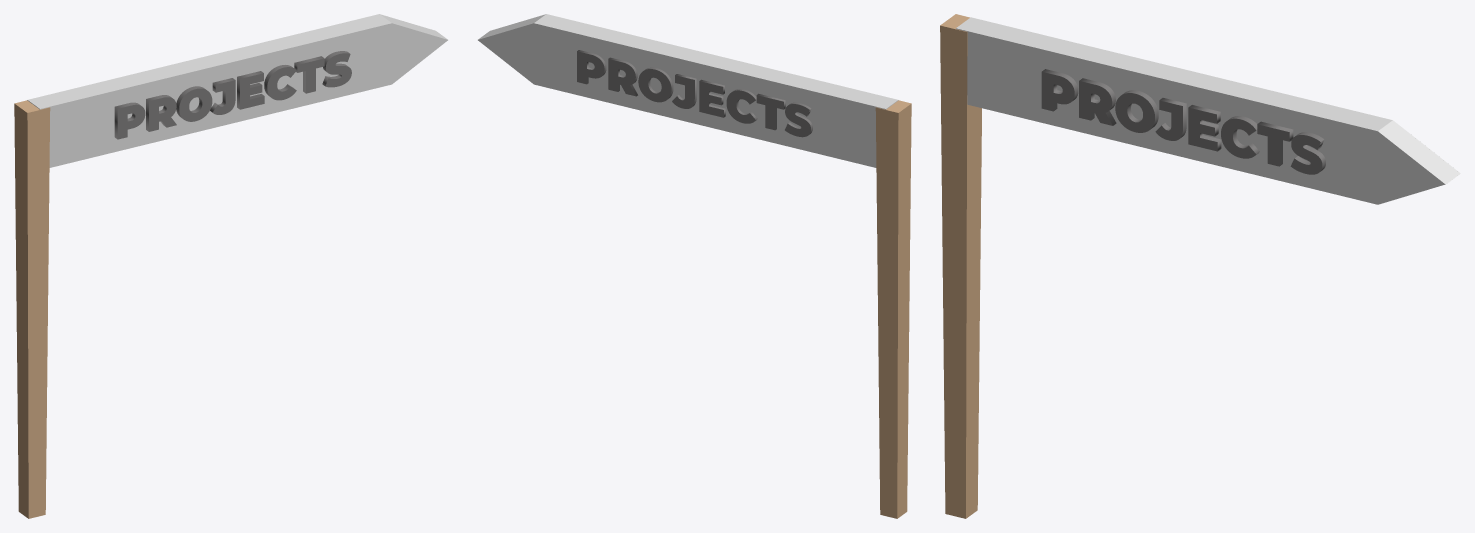
File: navigation_board_project.fbx
The picture shows the model from 3 angles, left to right: view 1: azimuth 30°, elevation 25°; view 2: azimuth 150°, elevation 25°; view 3: azimuth 330°, elevation 25°; orthographic projection. The views are drawn at different scales.
Parts seen in each view (by area): view 1: Cube.001, Cube, Text.002; view 2: Cube.001, Cube, Text.001; view 3: Cube.001, Cube, Text.002.
Part boxes in pixels (x1,y1,x2,y2): Cube.001: (27,14,447,167); Cube: (14,100,50,518); Text.002: (114,51,351,139); Cube.001: (478,14,898,167); Cube: (875,100,911,518); Text.001: (577,50,812,137); Cube.001: (956,17,1460,204); Cube: (940,14,981,518); Text.002: (1041,69,1325,174).
Bounding box in the file's own units: 193 × 179 × 13.88.
